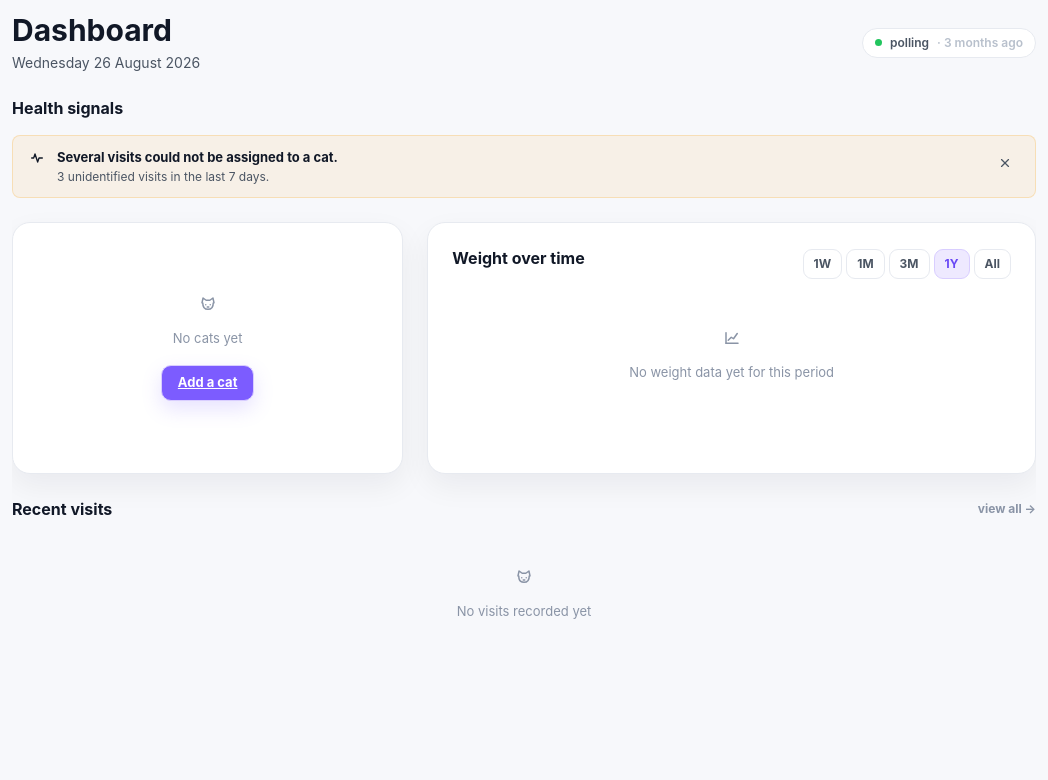
Test: Dashboard › dismisses health signals
The image size is (1048, 780).
Check: the text "Several visits could not be assigned to a cat." is shown, box x1=57 y1=149 x2=338 y2=165
Click the button named "Dismiss health signal": x=1005, y=162 x1=991 y1=148 x2=1019 y2=176
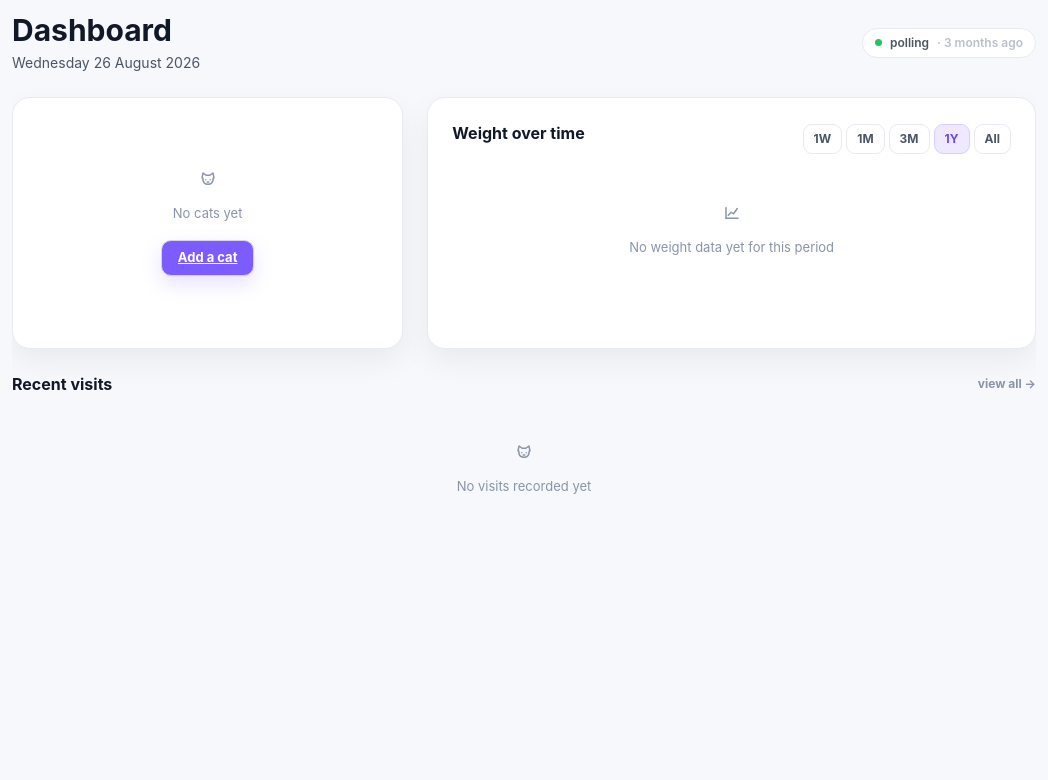
Check: the text "Several visits could not be assigned to a cat." is gone
